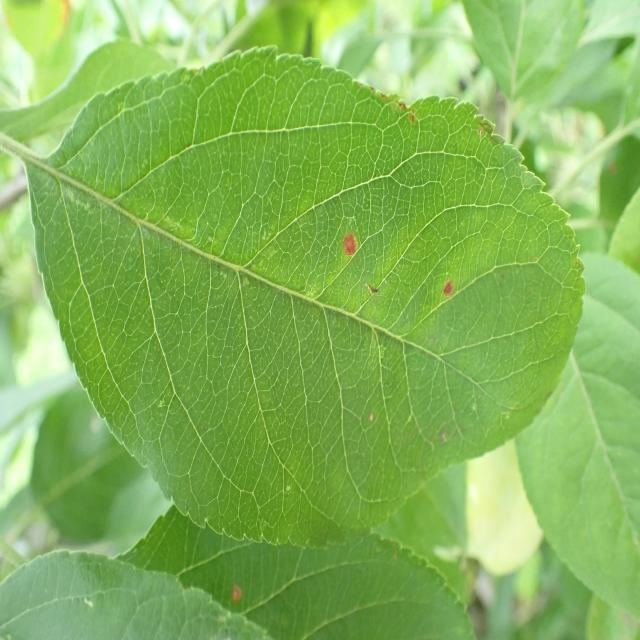Black Rot: (427, 265, 476, 342), (326, 210, 371, 279)
